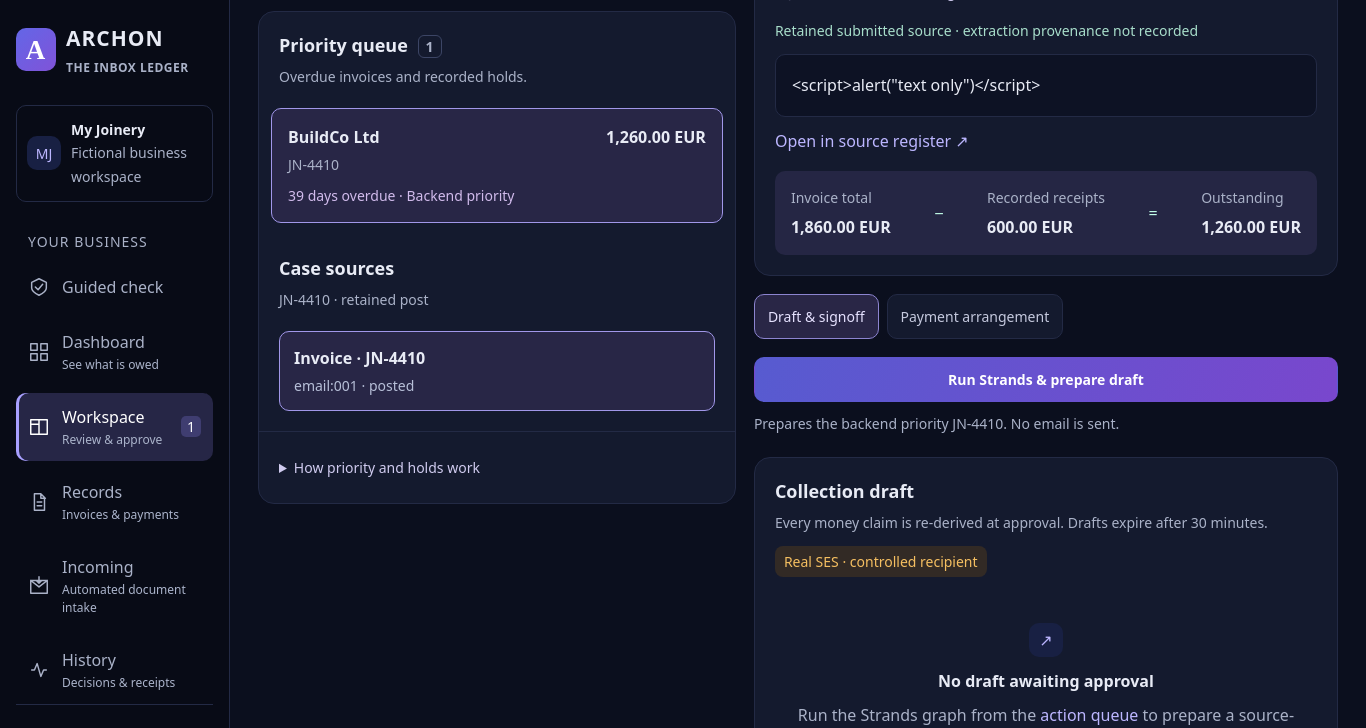
Test: async mutation resolves as completed without replay
(page scrolled)
Click the button "Run Strands & prepare draft". click: [1046, 379]
box: [754,357,1338,402]
Wait 2000 ms
(page scrolled)
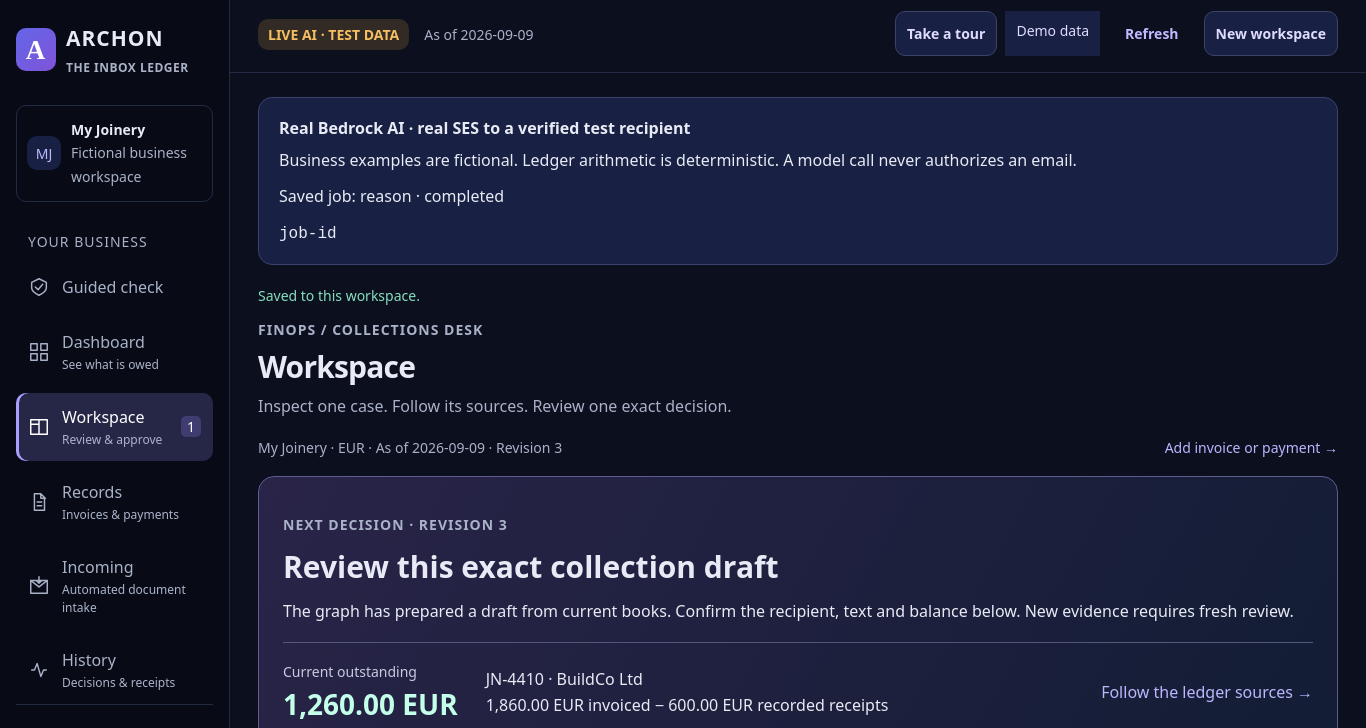
Check: the element with test id "provider-status" shows "completed", box [424,185,504,207]
